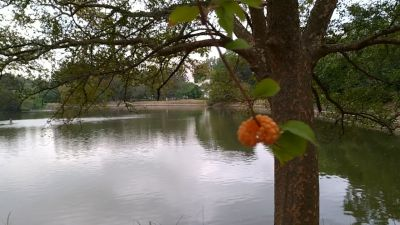eggs: (236, 113, 281, 148)
